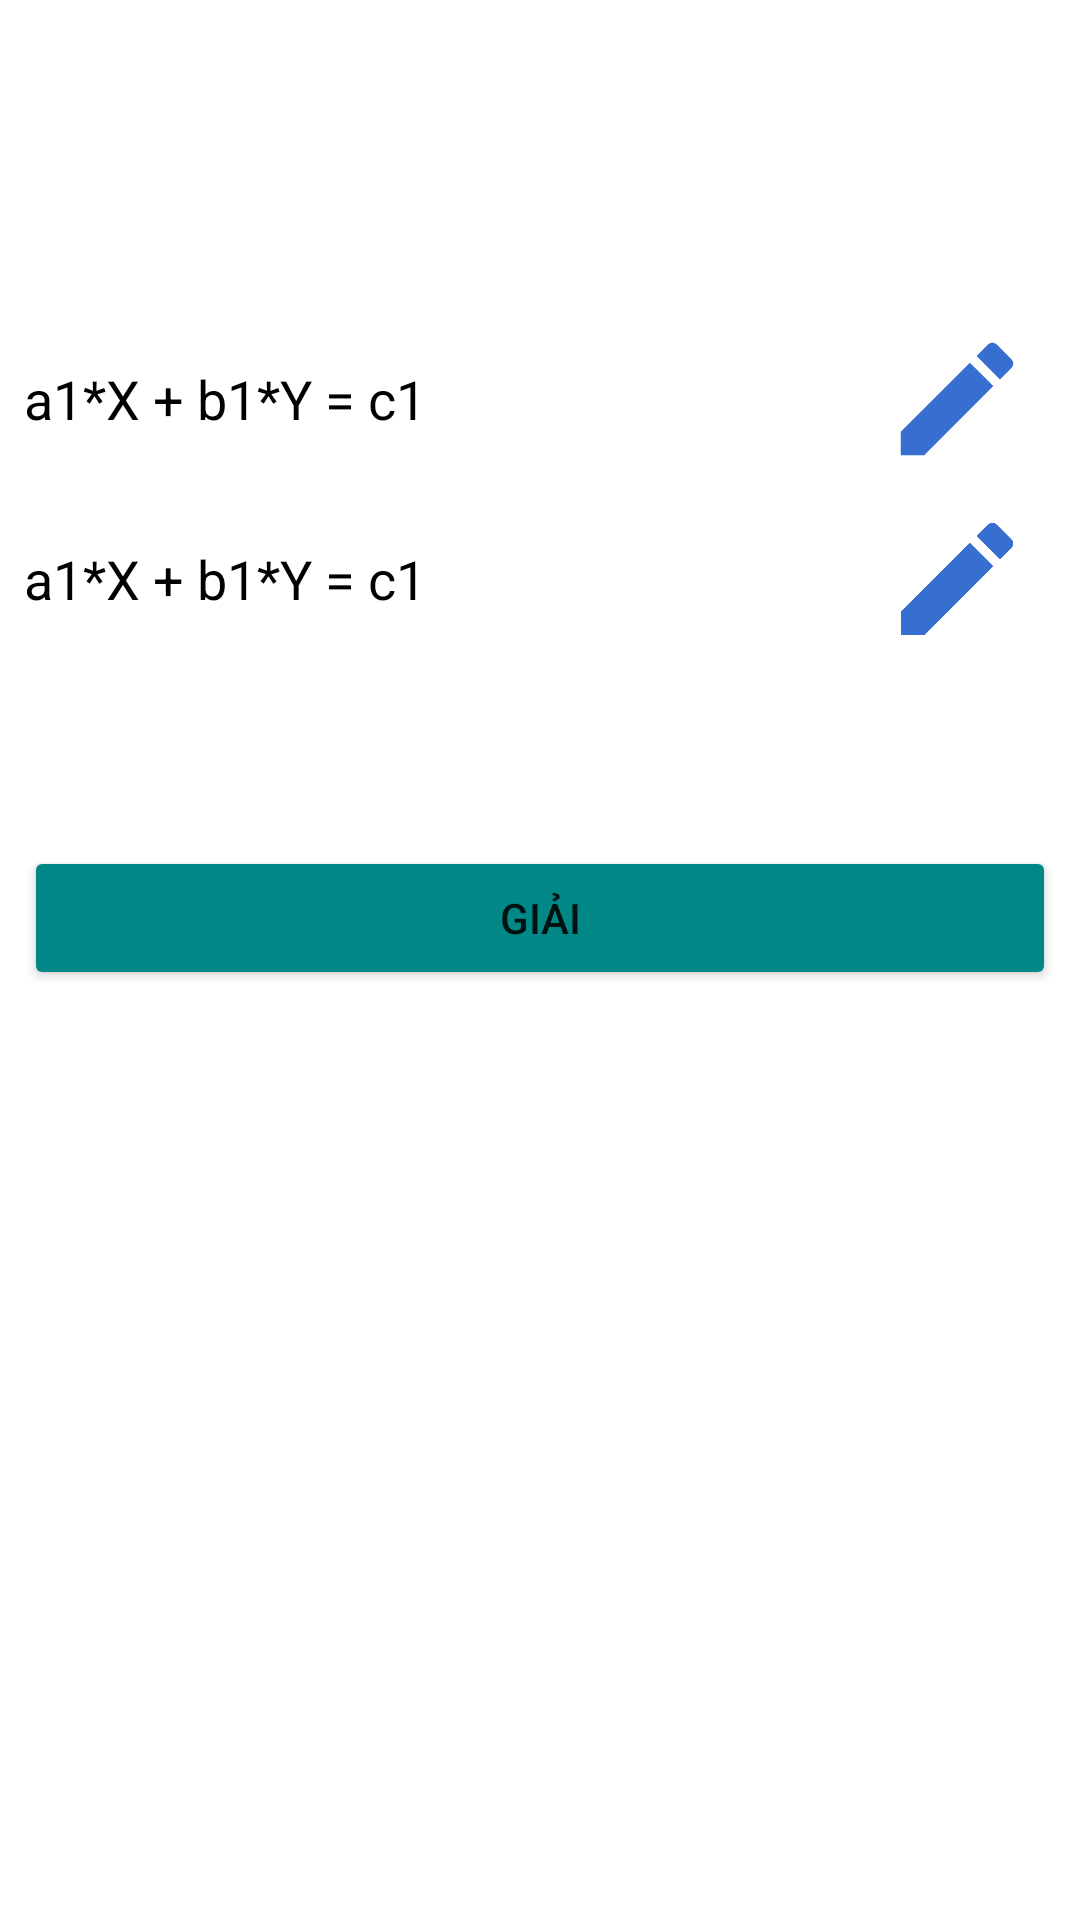

Icon bounding boxes for this 1080 × 1920 phone screenshot, format (x1, y1, x2, y2):
edit: (900, 342, 1014, 456), (901, 523, 1013, 635)
